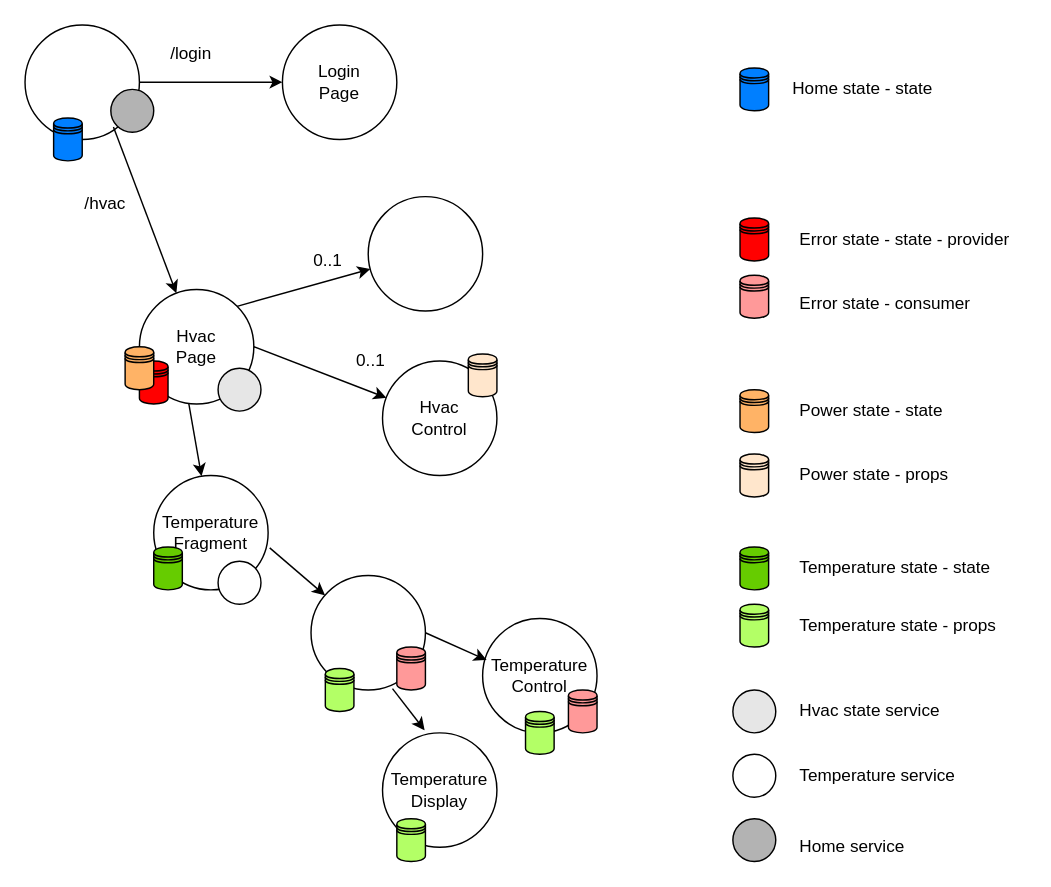
This 1051x887 diagram has some shape labels left out. Each missing label, with the box of its shape:
App: (24, 24, 139, 139)
Error TopView: (367, 195, 483, 311)
Temperature Card: (310, 574, 425, 690)
